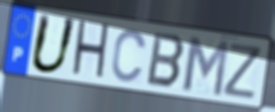B: (144, 30, 187, 90)
C: (110, 27, 148, 85)
H: (69, 18, 112, 84)
M: (181, 34, 231, 99)
U: (27, 11, 79, 76)
Z: (220, 41, 264, 102)
